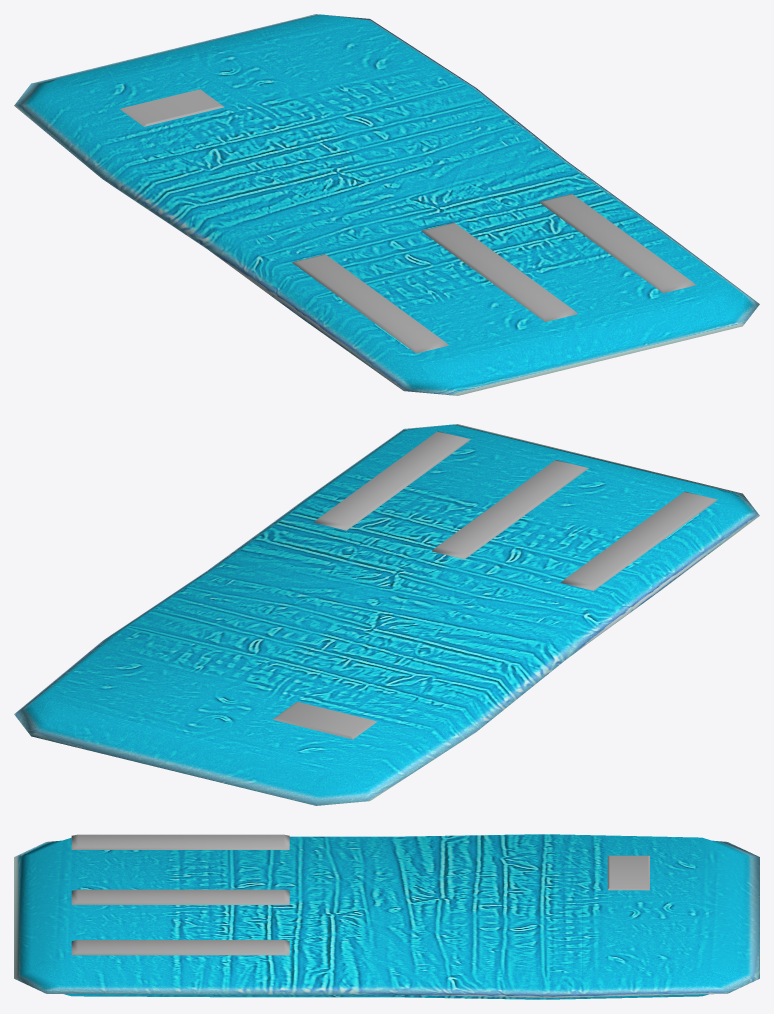
Rendered from ArmPillow.fbx.
3 views of the same model, one above another, from view 1: azimuth 30°, elevation 25°; view 2: azimuth 150°, elevation 25°; view 3: azimuth 270°, elevation 25° (orthographic). The views are drawn at different scales.
Parts seen in each view (by area): view 1: ArmPillow; view 2: ArmPillow; view 3: ArmPillow.
Part boxes in pixels (x1,y1,x2,y2): ArmPillow: (14,14,759,395); ArmPillow: (14,424,759,805); ArmPillow: (14,834,759,999).
Bounding box in the file's own units: 34.08 × 3.36 × 67.35.
